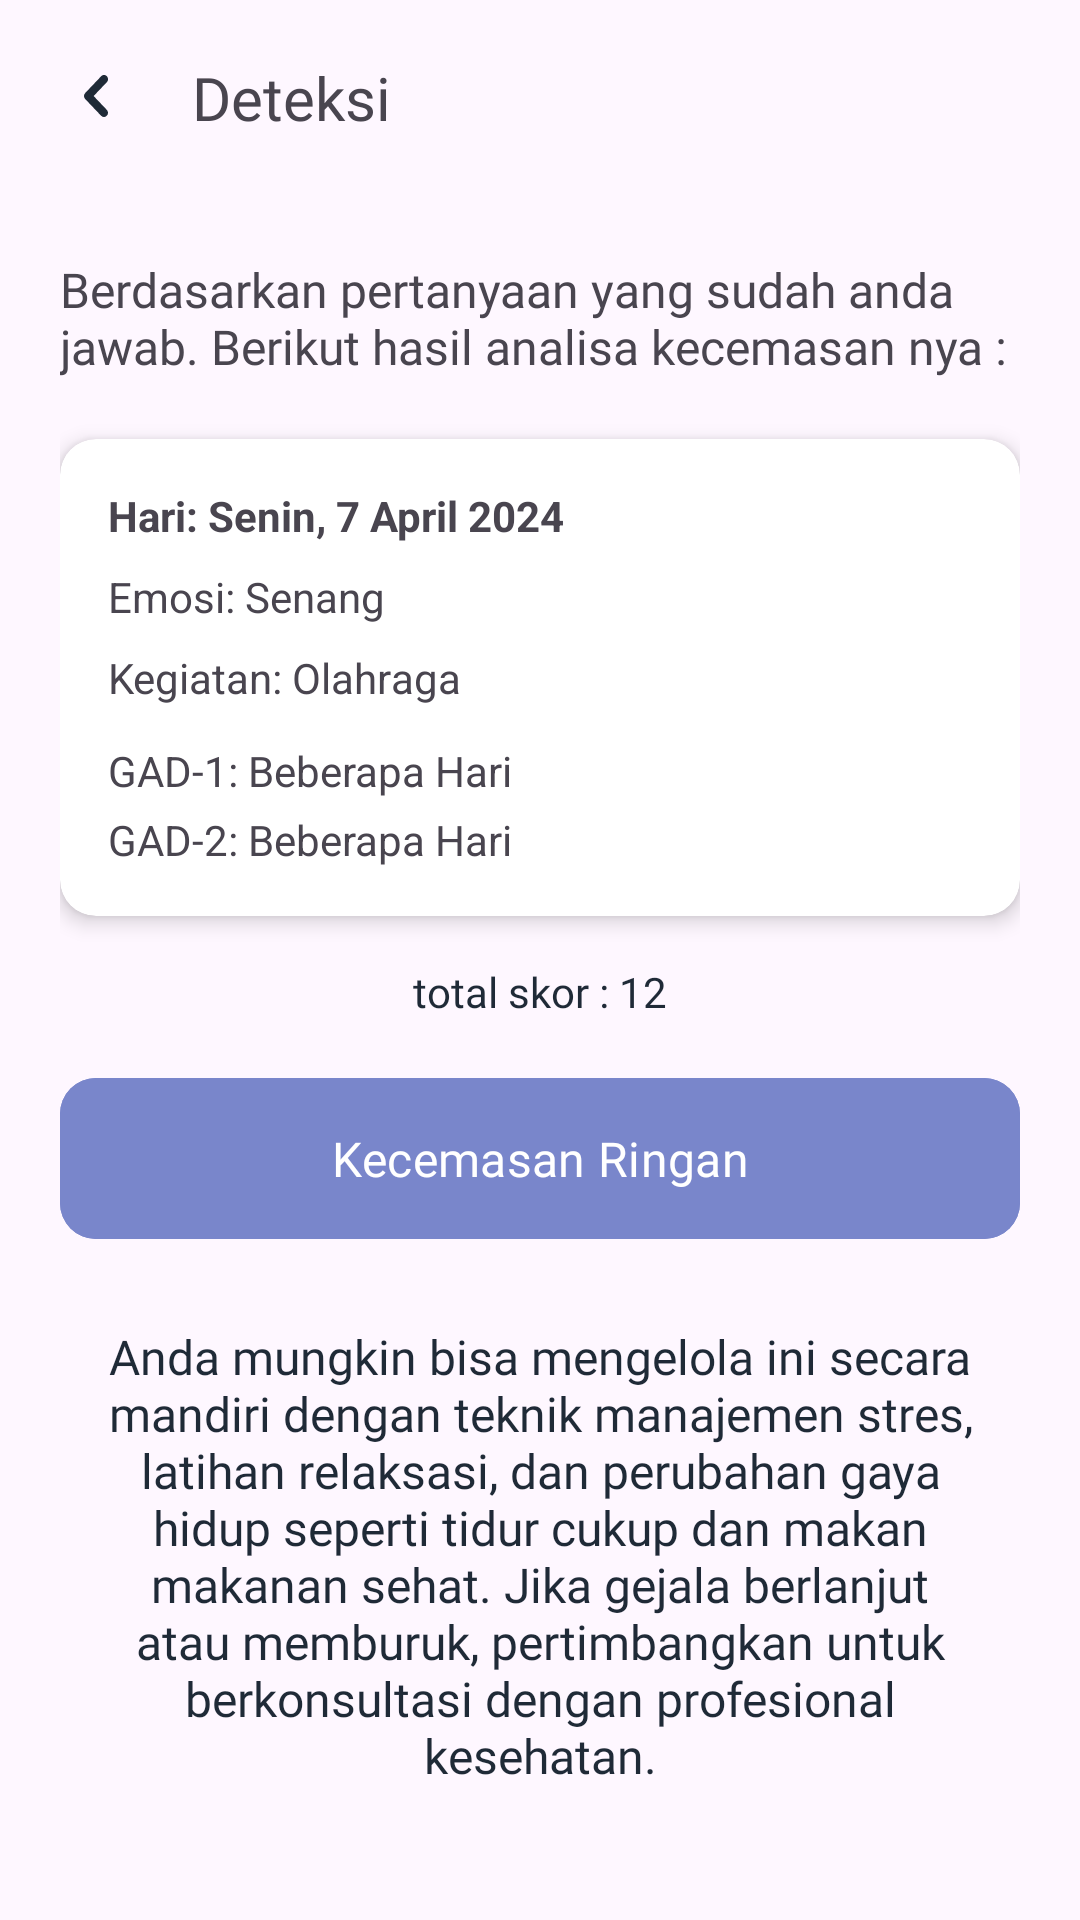

Icon bounding boxes for this 1080×1920 phone screenshot, format box(x1, y1, x2, y2):
Back Button: box(84, 75, 108, 117)
